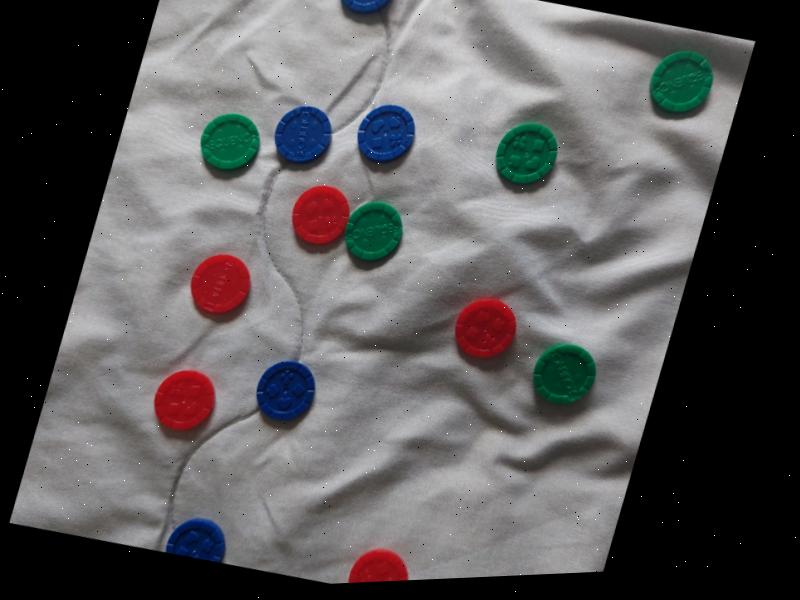Blue_Token: (234, 340, 333, 439), (260, 90, 346, 179), (345, 90, 426, 172), (165, 493, 245, 567), (327, 0, 407, 21)
Green_Token: (478, 104, 578, 205), (637, 37, 721, 139), (524, 329, 612, 422), (338, 183, 416, 278), (188, 101, 265, 186)
Red_Token: (439, 276, 540, 381), (281, 169, 368, 264), (143, 364, 231, 449), (178, 242, 263, 329), (337, 529, 432, 583)
